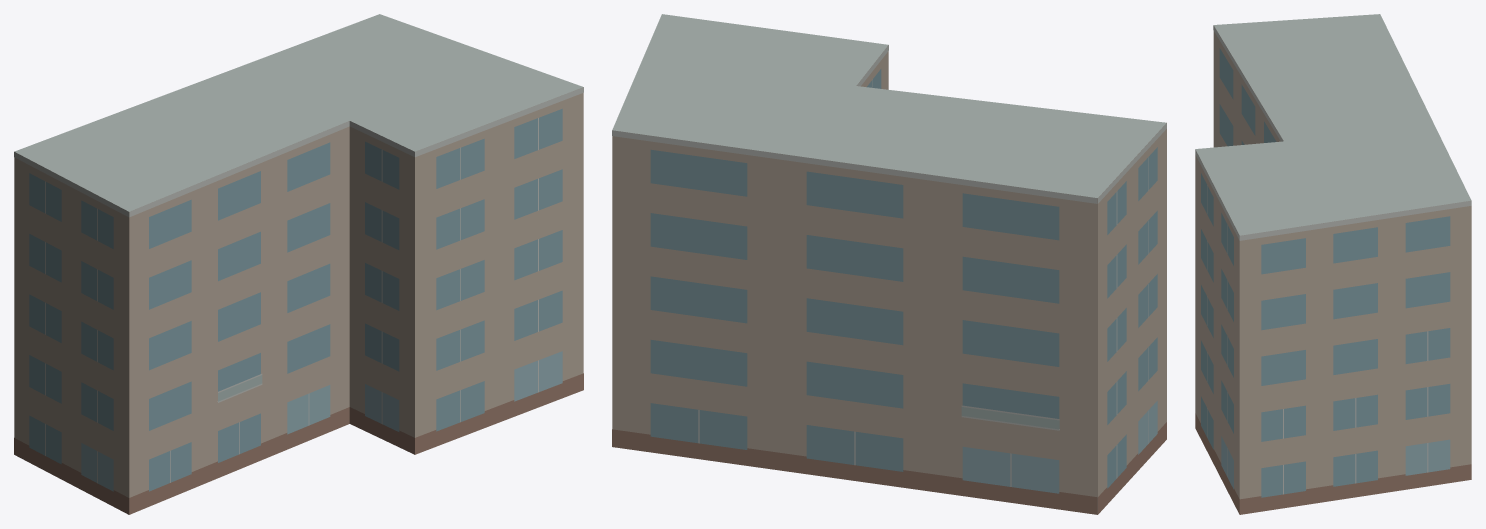
File: survey-upis-32475432.glb
3 views of the same model, side by side, from view 1: azimuth 30°, elevation 25°; view 2: azimuth 150°, elevation 25°; view 3: azimuth 270°, elevation 25° (orthographic). The views are drawn at different scales.
Parts seen in each view (by area): view 1: survey-upis-32475432.tmp; view 2: survey-upis-32475432.tmp; view 3: survey-upis-32475432.tmp.
Boxes of the visible parts, bbox=[...] form: survey-upis-32475432.tmp: bbox=[14, 14, 583, 514]; survey-upis-32475432.tmp: bbox=[612, 14, 1166, 514]; survey-upis-32475432.tmp: bbox=[1195, 14, 1471, 514].
Size of the model in its own units: 22.5 by 13.2 by 11.85.
